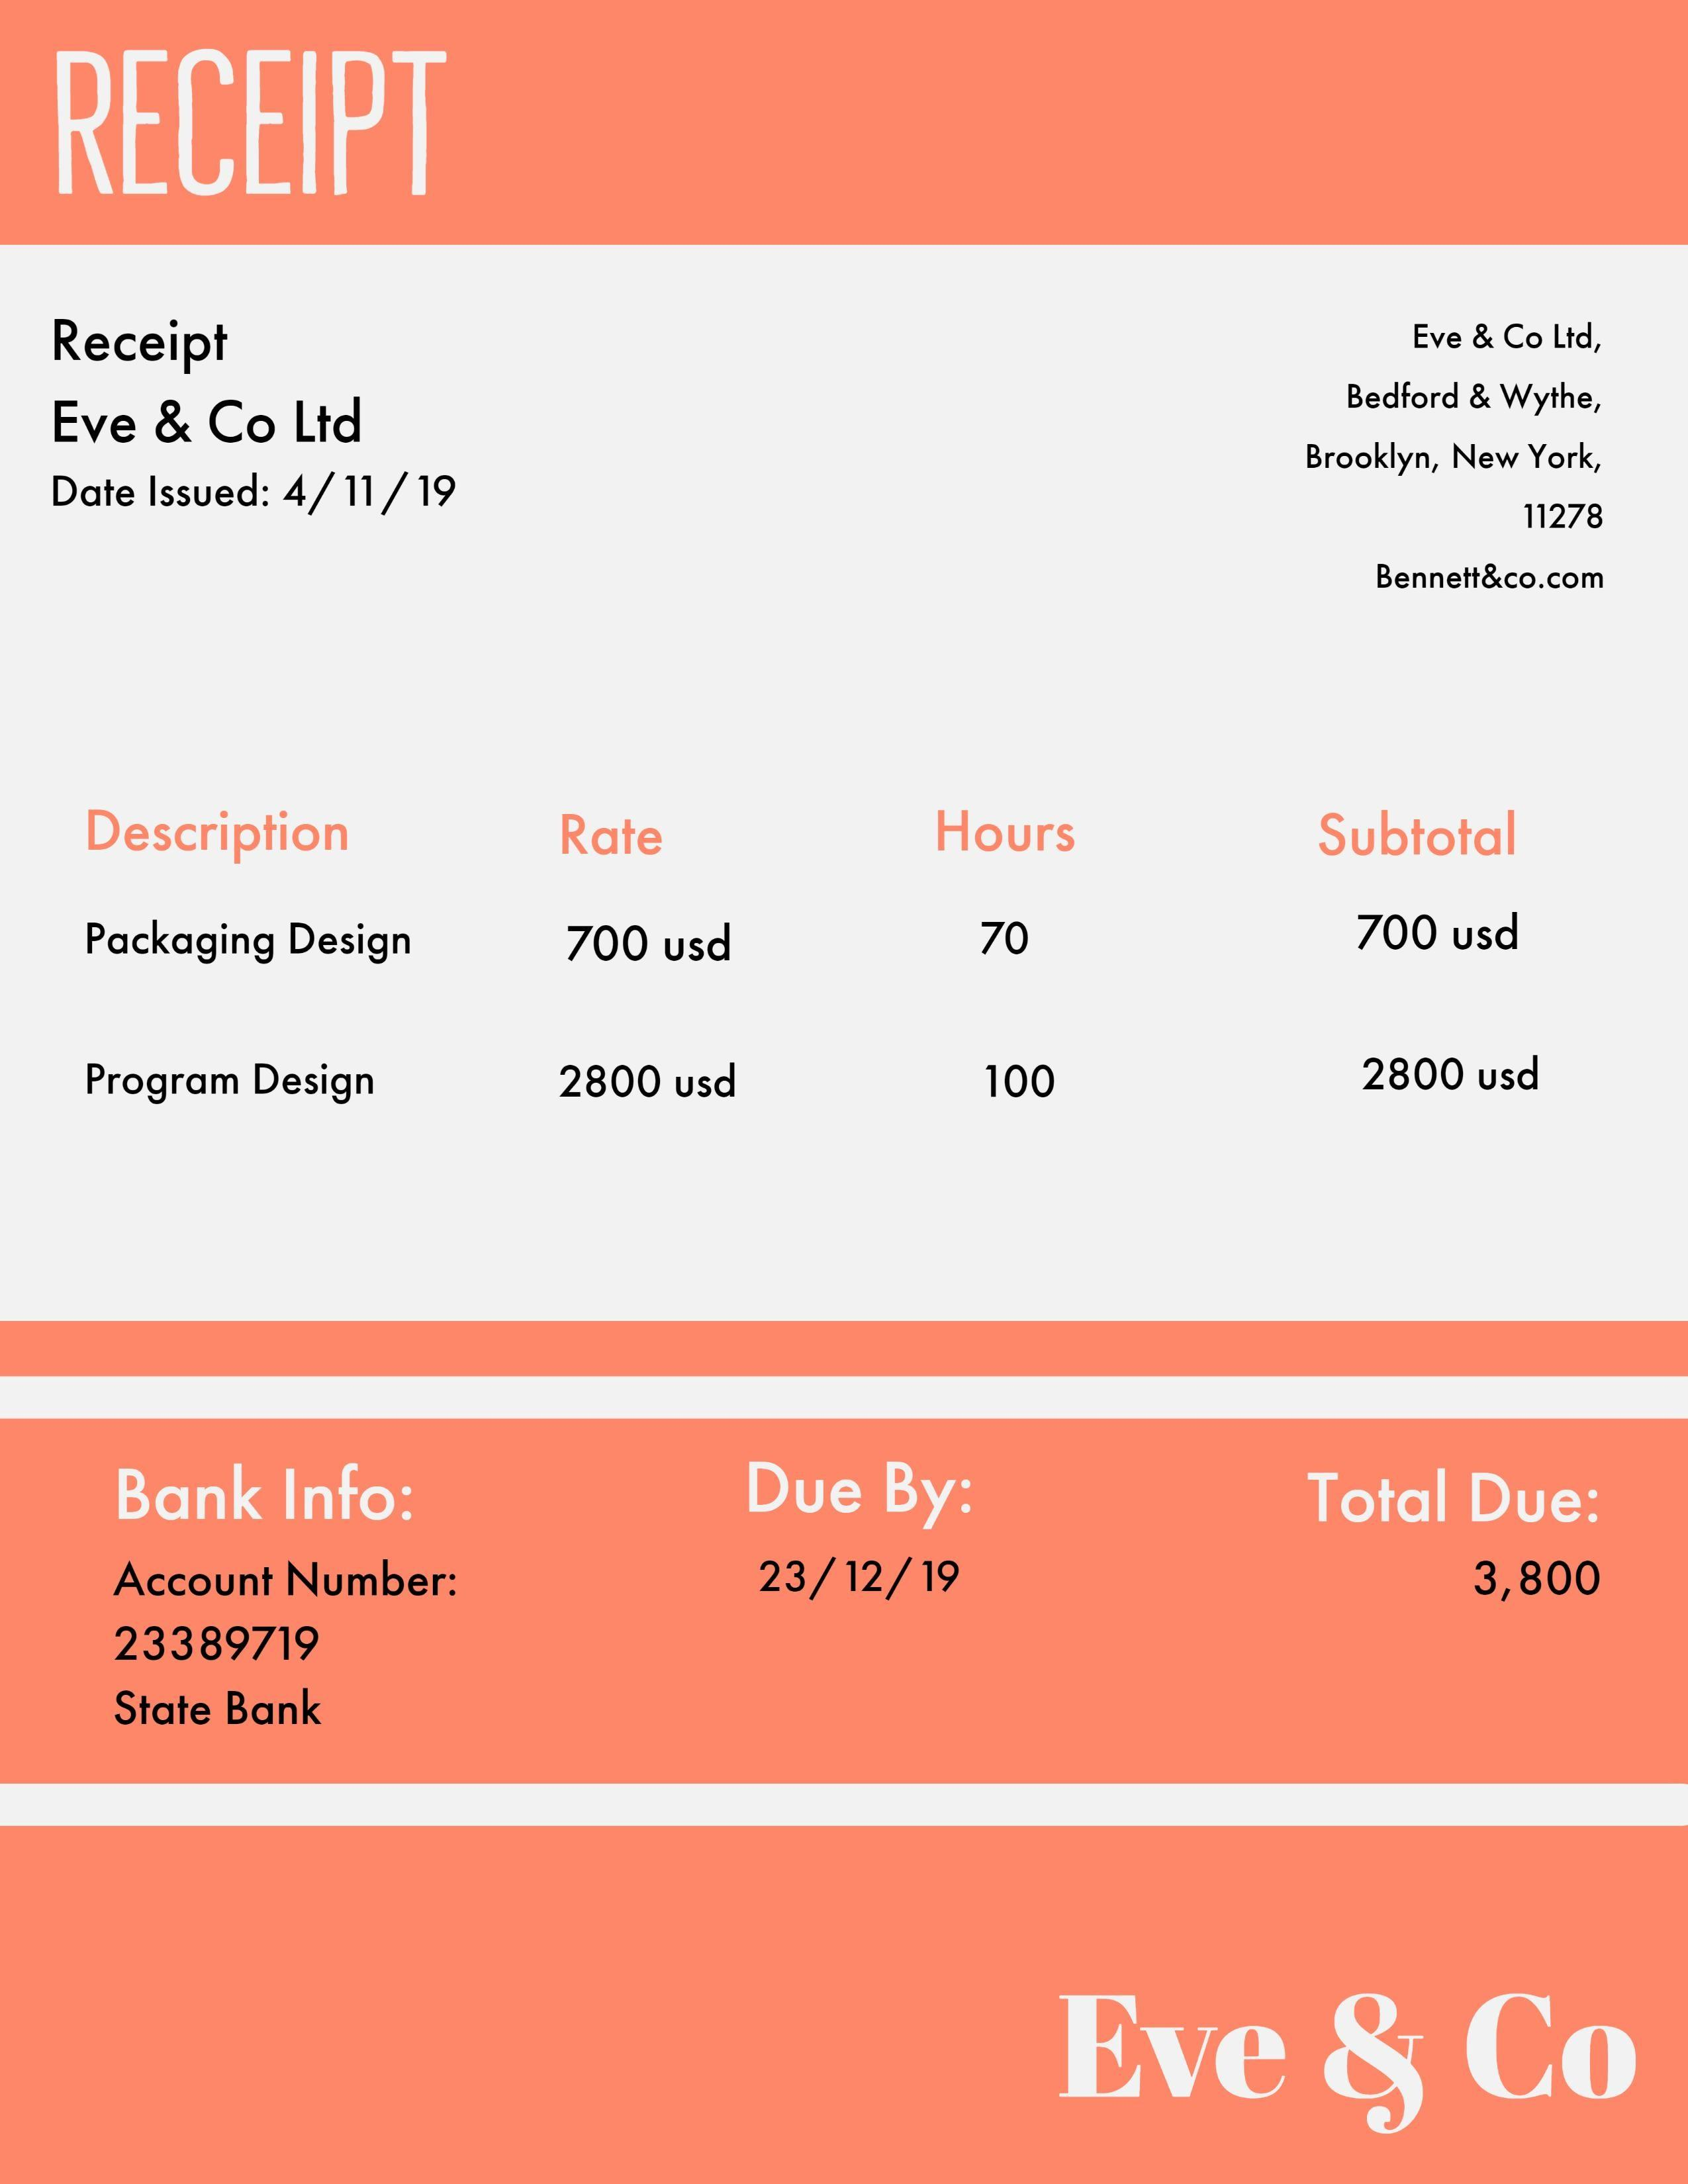ROI: (65, 805, 1580, 1108), (93, 1433, 990, 1766), (1299, 307, 1641, 614), (1288, 1456, 1648, 1623), (44, 451, 485, 563)
